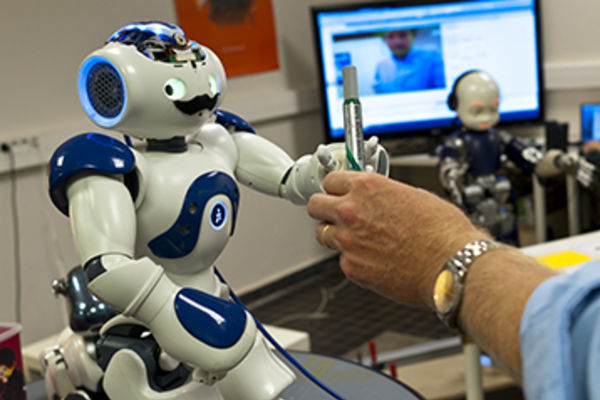nao: (39, 2, 390, 400)
